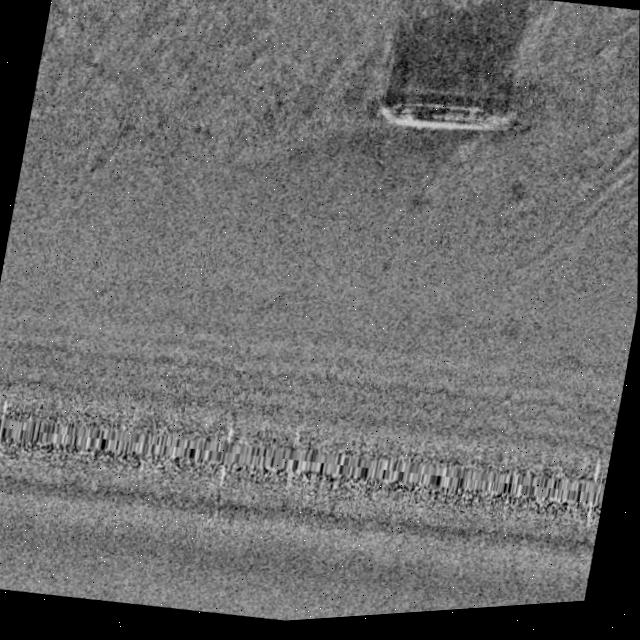shipwreck: (373, 90, 520, 158)
